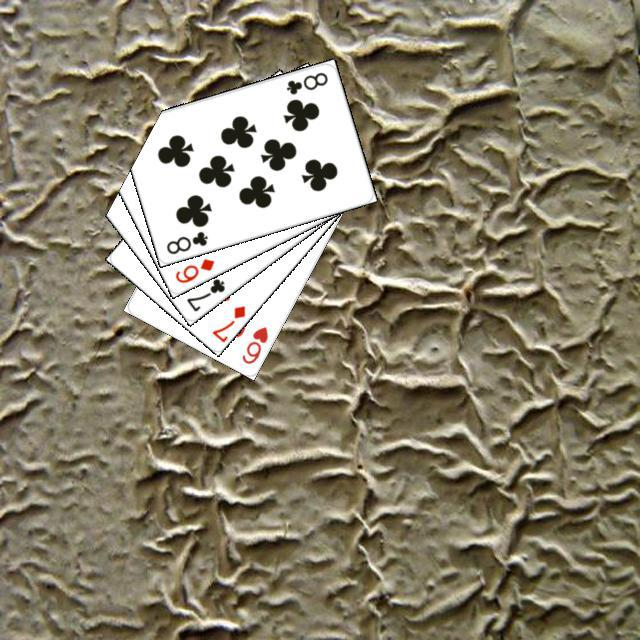6d: (170, 253, 216, 285)
6h: (237, 321, 270, 366)
7c: (182, 273, 227, 313)
7d: (207, 300, 247, 343)
8c: (161, 226, 209, 256), (281, 67, 329, 96)
